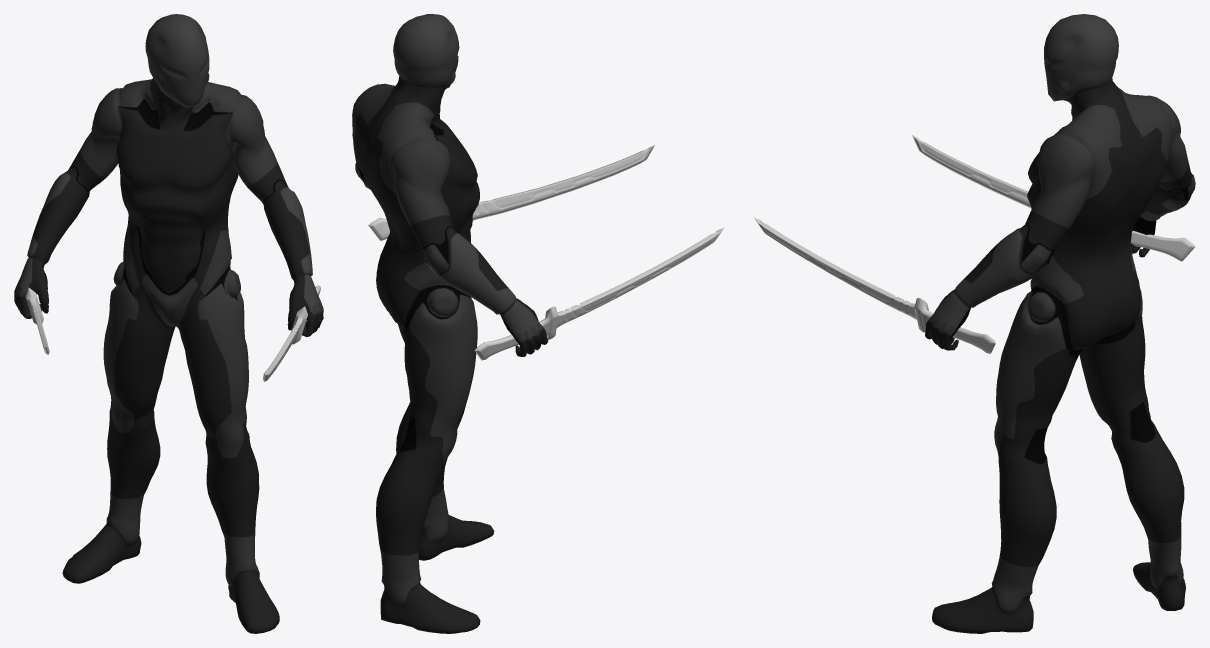
3 renders of one model, left to right at view 1: azimuth 30°, elevation 25°; view 2: azimuth 150°, elevation 25°; view 3: azimuth 270°, elevation 25°, orthographic. The views are drawn at different scales.
Parts seen in each view (by area): view 1: Cyborg_Ninja_Killer, Sword_l, Sword_l001; view 2: Cyborg_Ninja_Killer, Sword_l001, Sword_l; view 3: Cyborg_Ninja_Killer, Sword_l, Sword_l001.
Part boxes in pixels (box(x1,y1,x2,y2)): Cyborg_Ninja_Killer: box(14, 14, 323, 633); Sword_l: box(263, 285, 320, 381); Sword_l001: box(25, 287, 49, 354); Cyborg_Ninja_Killer: box(352, 14, 548, 633); Sword_l001: box(474, 227, 724, 360); Sword_l: box(368, 145, 654, 240); Cyborg_Ninja_Killer: box(925, 14, 1195, 633); Sword_l: box(753, 217, 995, 353); Sword_l001: box(912, 135, 1195, 261).
Size of the model in its own units: 106 by 182 by 123.
